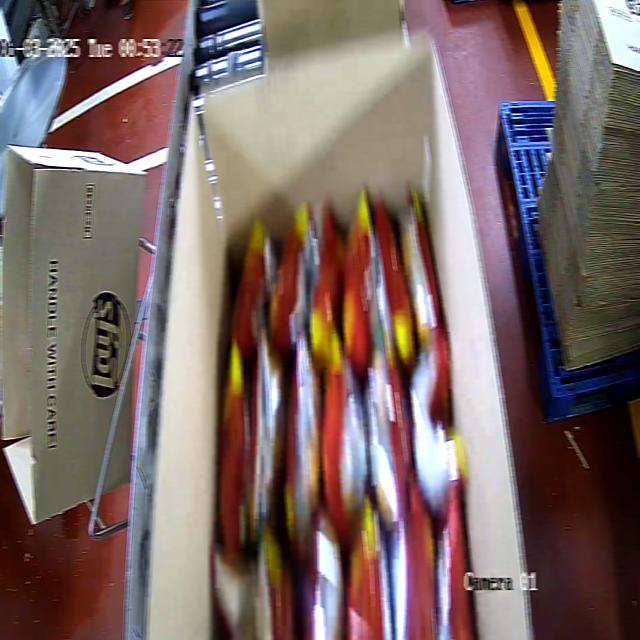MASALA: (212, 183, 476, 638)
